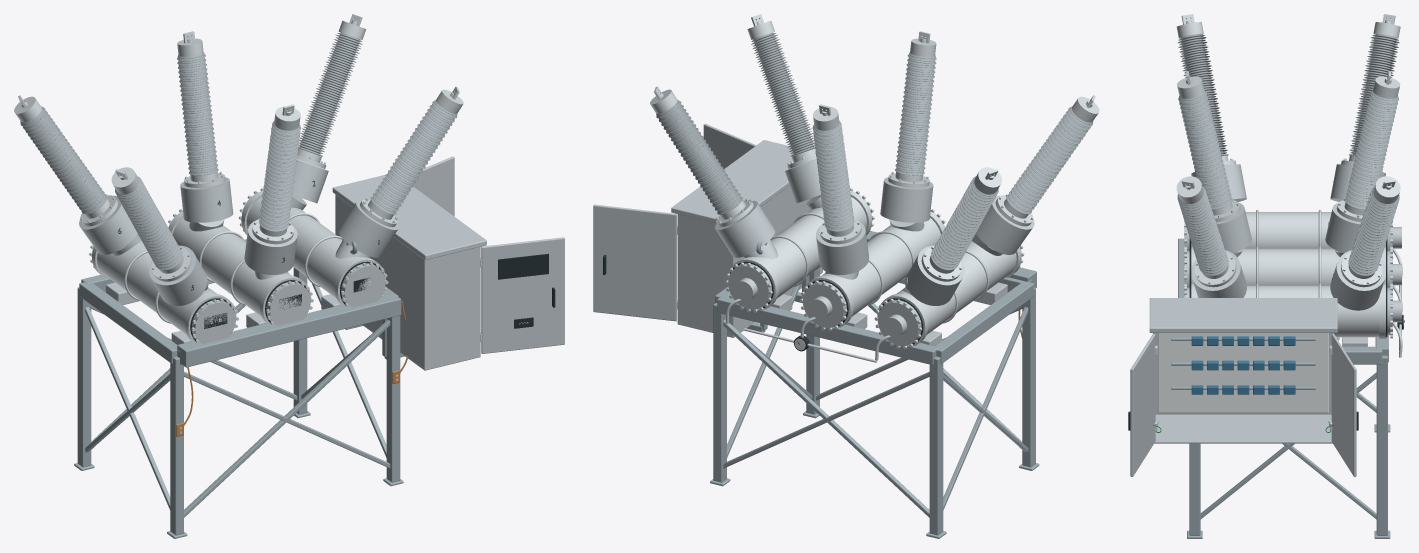
File: frame-breaker-service.glb
3 renders of one model, left to right at view 1: azimuth 30°, elevation 25°; view 2: azimuth 150°, elevation 25°; view 3: azimuth 270°, elevation 25°, orthographic.
Visible parts, largest first — view 1: Object100033, Object100046, Object100012, Object100047, Object100028, Object100182, Object100346, Object100292, Object100382, Object100310, Object100328, Object100119 (+22 smaller); view 2: Object100034, Object100049, Object100047, Object100182, Object100328, Object100310, Object100396, Object100364, Object100292, Object100346, Object100119, Object100242 (+22 smaller); view 3: Object100045, Object100047, Object100050, Object100182, Object100328, Object100346, Object100033, Object100034, Object100242, Object100119, Object100310, Object100292 (+22 smaller).
Part boxes in pixels (bbox=[...]): Object100033: bbox=[481, 237, 564, 353]; Object100046: bbox=[426, 247, 480, 368]; Object100012: bbox=[177, 292, 401, 367]; Object100047: bbox=[332, 174, 486, 259]; Object100028: bbox=[335, 195, 425, 368]; Object100182: bbox=[172, 218, 291, 316]; Object100346: bbox=[177, 52, 218, 175]; Object100292: bbox=[370, 100, 457, 214]; Object100382: bbox=[20, 106, 107, 214]; Object100310: bbox=[298, 32, 362, 156]; Object100328: bbox=[259, 121, 300, 231]; Object100119: bbox=[246, 197, 361, 298]; Object100034: bbox=[593, 204, 676, 321]; Object100049: bbox=[677, 214, 734, 335]; Object100047: bbox=[671, 140, 816, 223]; Object100182: bbox=[822, 218, 940, 316]; Object100328: bbox=[895, 52, 936, 175]; Object100310: bbox=[656, 100, 742, 214]; Object100396: bbox=[717, 295, 938, 365]; Object100364: bbox=[1006, 106, 1093, 214]; Object100292: bbox=[751, 32, 814, 156]; Object100346: bbox=[812, 121, 854, 231]; Object100119: bbox=[751, 197, 866, 298]; Object100242: bbox=[896, 241, 1016, 334]; Object100045: bbox=[1158, 333, 1328, 413]; Object100047: bbox=[1149, 298, 1337, 332]; Object100050: bbox=[1154, 414, 1332, 443]; Object100182: bbox=[1237, 248, 1339, 285]; Object100328: bbox=[1178, 90, 1232, 209]; Object100346: bbox=[1345, 90, 1398, 209]; Object100033: bbox=[1130, 334, 1155, 476]; Object100034: bbox=[1331, 334, 1356, 476]; Object100242: bbox=[1245, 212, 1332, 248]; Object100119: bbox=[1198, 285, 1379, 337]; Object100310: bbox=[1348, 187, 1399, 275]; Object100292: bbox=[1177, 187, 1228, 275].
Size of the model in its own units: 4.8 by 4.41 by 2.7.
